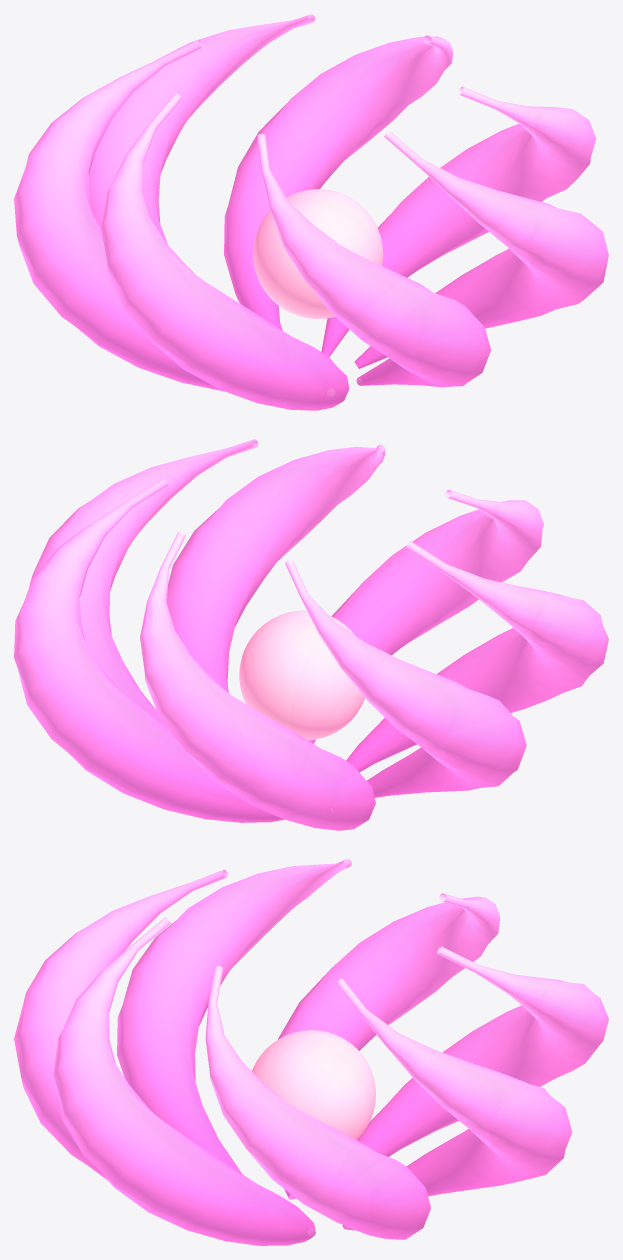
File: soul.glb
3 views of the same model, one above another, from view 1: azimuth 30°, elevation 25°; view 2: azimuth 150°, elevation 25°; view 3: azimuth 270°, elevation 25° (orthographic).
Visible parts, largest first — view 1: soul; view 2: soul; view 3: soul.
Part boxes in pixels (bbox=[...]): soul: bbox=[14, 14, 608, 410]; soul: bbox=[14, 439, 608, 830]; soul: bbox=[14, 859, 608, 1245].
Size of the model in its own units: 0.0882 by 0.0498 by 0.09.
